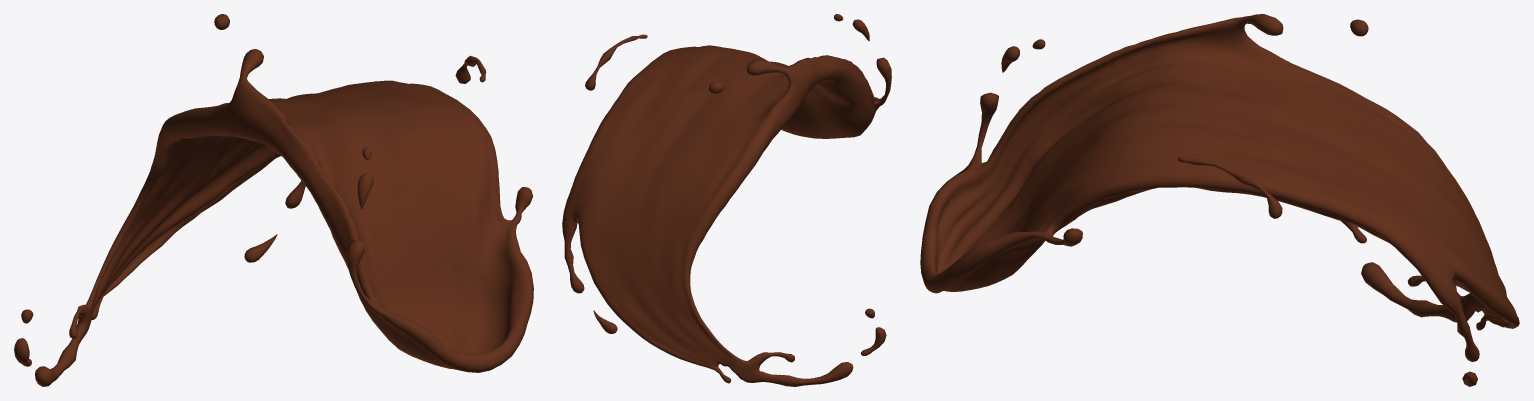
3 renders of one model, left to right at view 1: azimuth 30°, elevation 25°; view 2: azimuth 150°, elevation 25°; view 3: azimuth 270°, elevation 25°, orthographic. The views are drawn at different scales.
Visible parts, largest first — view 1: chocolate_splash_free_002_grp; view 2: chocolate_splash_free_002_grp; view 3: chocolate_splash_free_002_grp.
Part boxes in pixels (left/top/right/bottom): chocolate_splash_free_002_grp: left=14, top=14, right=533, bottom=386; chocolate_splash_free_002_grp: left=562, top=14, right=891, bottom=386; chocolate_splash_free_002_grp: left=920, top=14, right=1519, bottom=386.
Bounding box in the file's own units: 53.1 × 41.19 × 62.12.
Materials: 1 (1 with a texture image).
